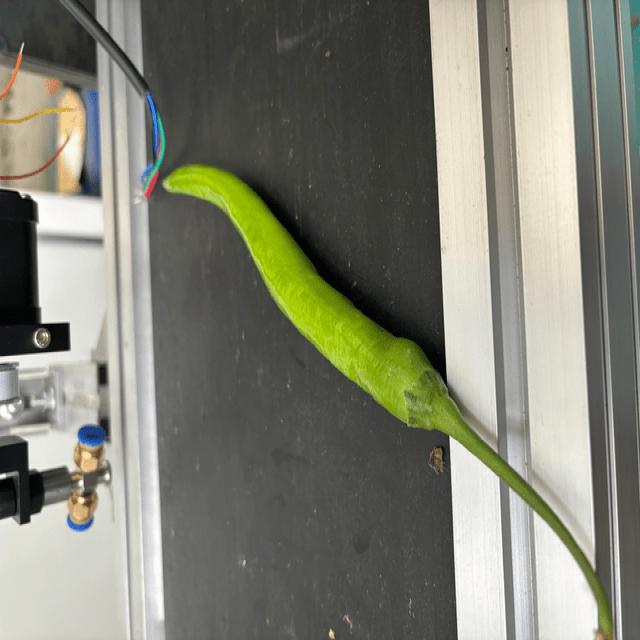chili: (160, 160, 449, 431)
